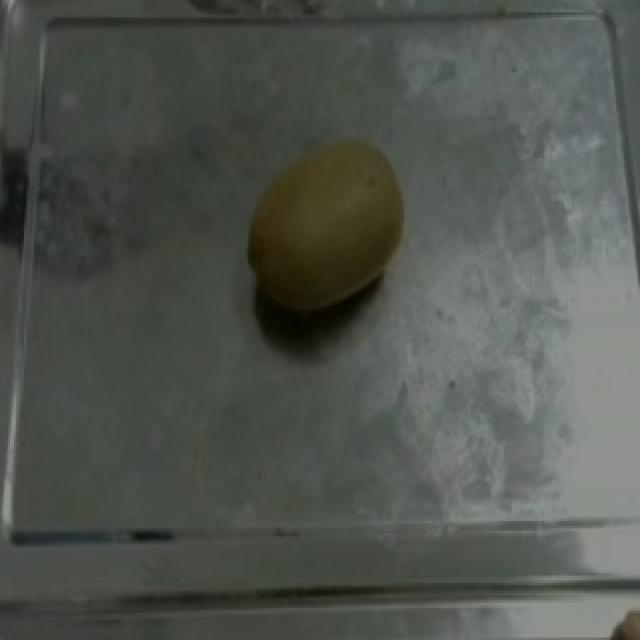Fruit: (238, 129, 416, 320)
